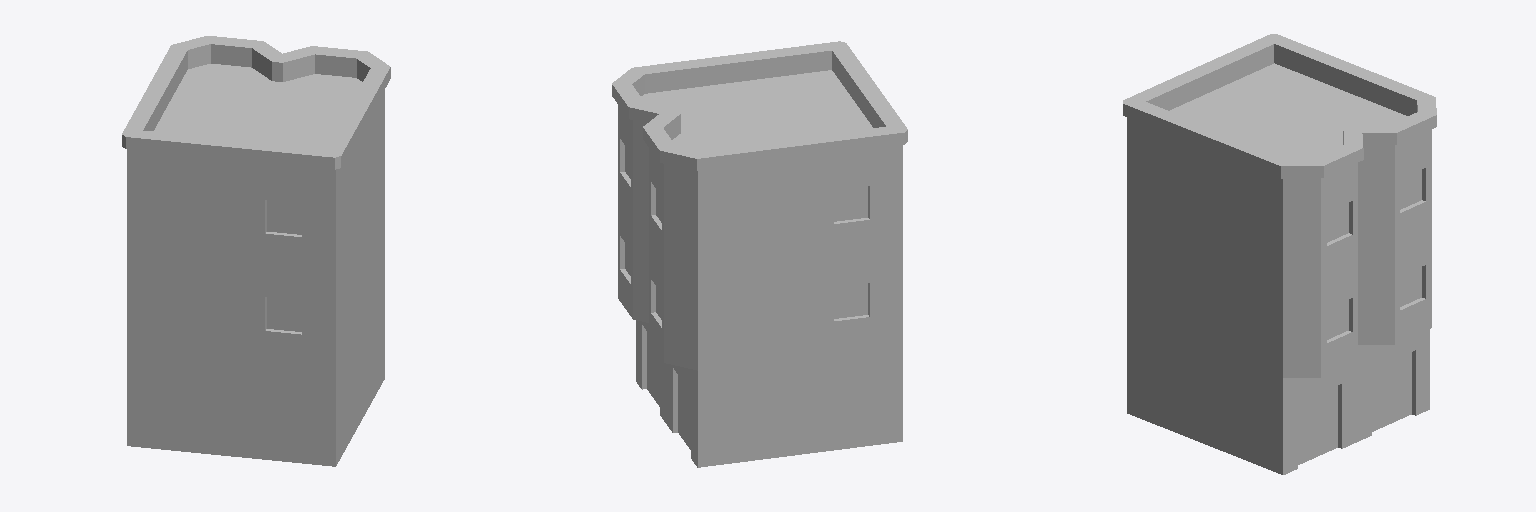
File: variant_44.obj
3 renders of one model, left to right at view 1: azimuth 30°, elevation 25°; view 2: azimuth 150°, elevation 25°; view 3: azimuth 270°, elevation 25°, orthographic.
Visible parts, largest first — view 1: small_buildingA; view 2: small_buildingA; view 3: small_buildingA.
Boxes of the visible parts, box(x1,y1,x2,y2) form: small_buildingA: box(122, 36, 390, 466); small_buildingA: box(612, 41, 907, 467); small_buildingA: box(1123, 34, 1436, 474).
Size of the model in its own units: 1.17 by 1.28 by 1.17.